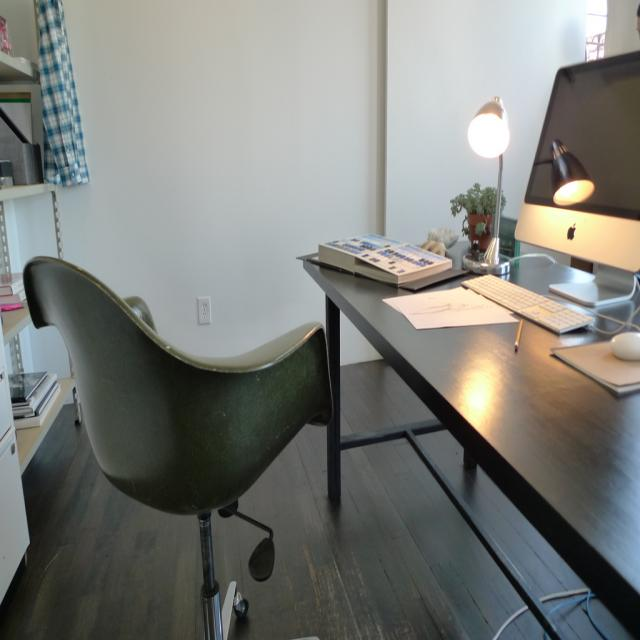chair: (22, 253, 332, 637)
desk: (302, 242, 640, 640)
keyboard: (462, 274, 588, 336)
mouse: (610, 331, 640, 360)
tv: (512, 51, 640, 278)
